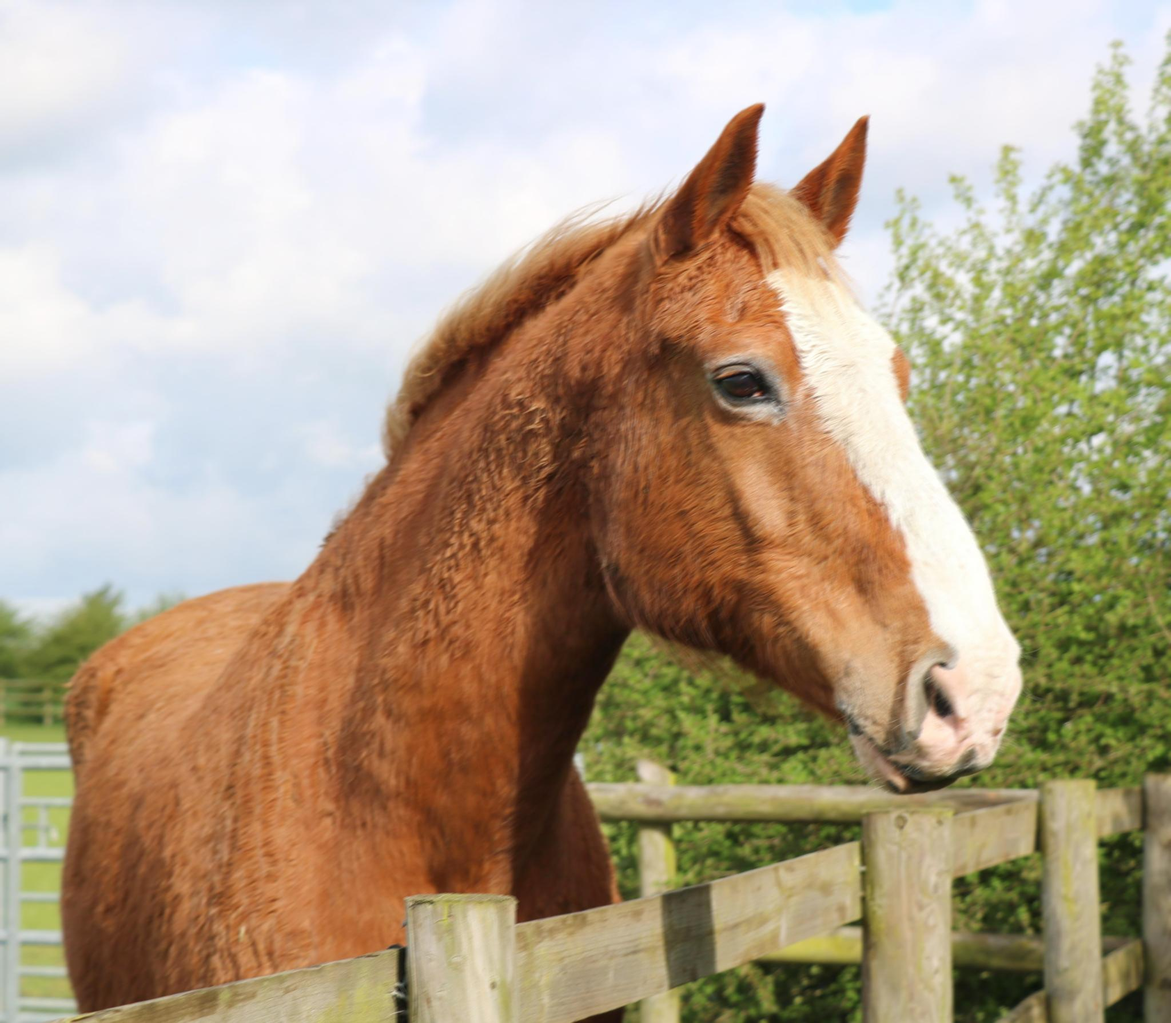horse: (42, 78, 1038, 1023)
